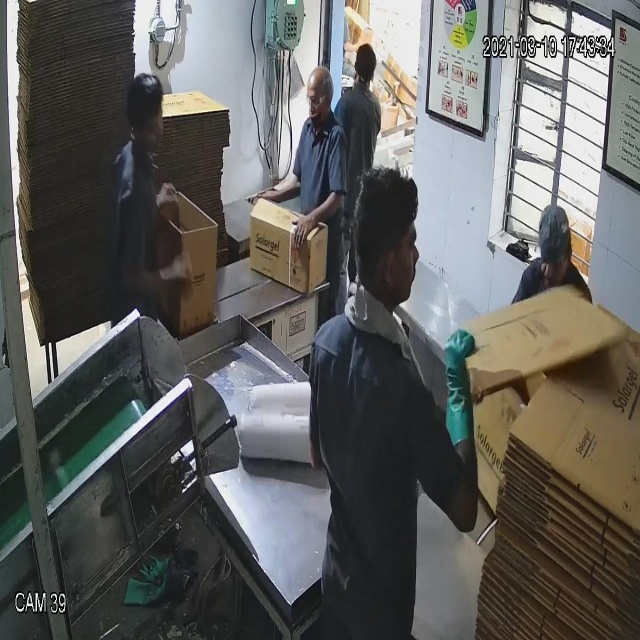Guantes: (437, 312, 493, 475)
Sin_guantes: (117, 236, 204, 322), (281, 188, 353, 248)
